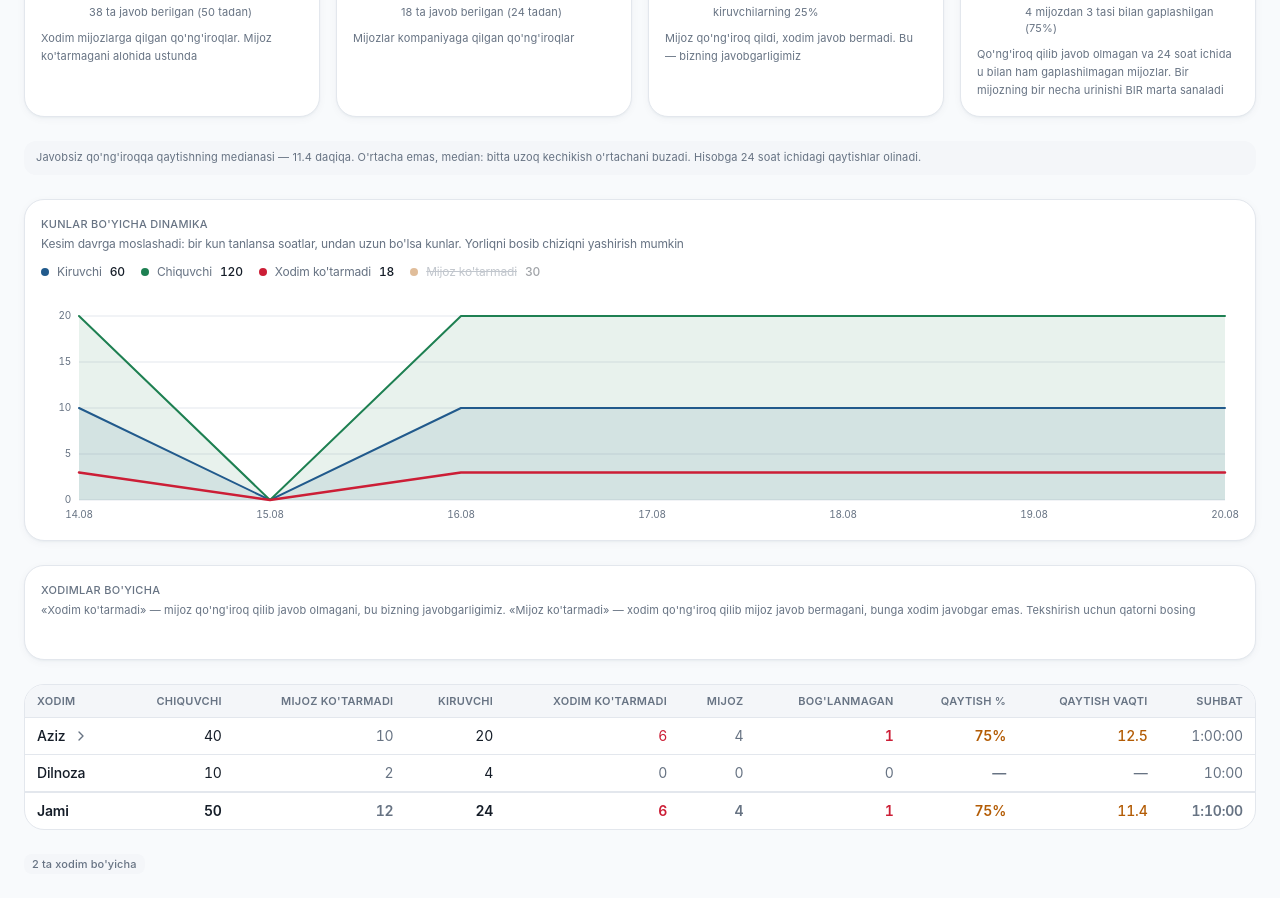
the table › explains a column when its header is pressed
(page scrolled)
Expected: the table is shown, [25,685,1255,829]
Expected: the text "«Xodim ko'tarmadi» — mijoz qo'ng'iroq qilib javob olmagani, bu bizning javobgarligimiz. «Mijoz ko'tarmadi» — xodim qo'ng" is shown, [41,602,1196,616]
Click the button "Mijoz": (725, 701) [707,693,743,709]
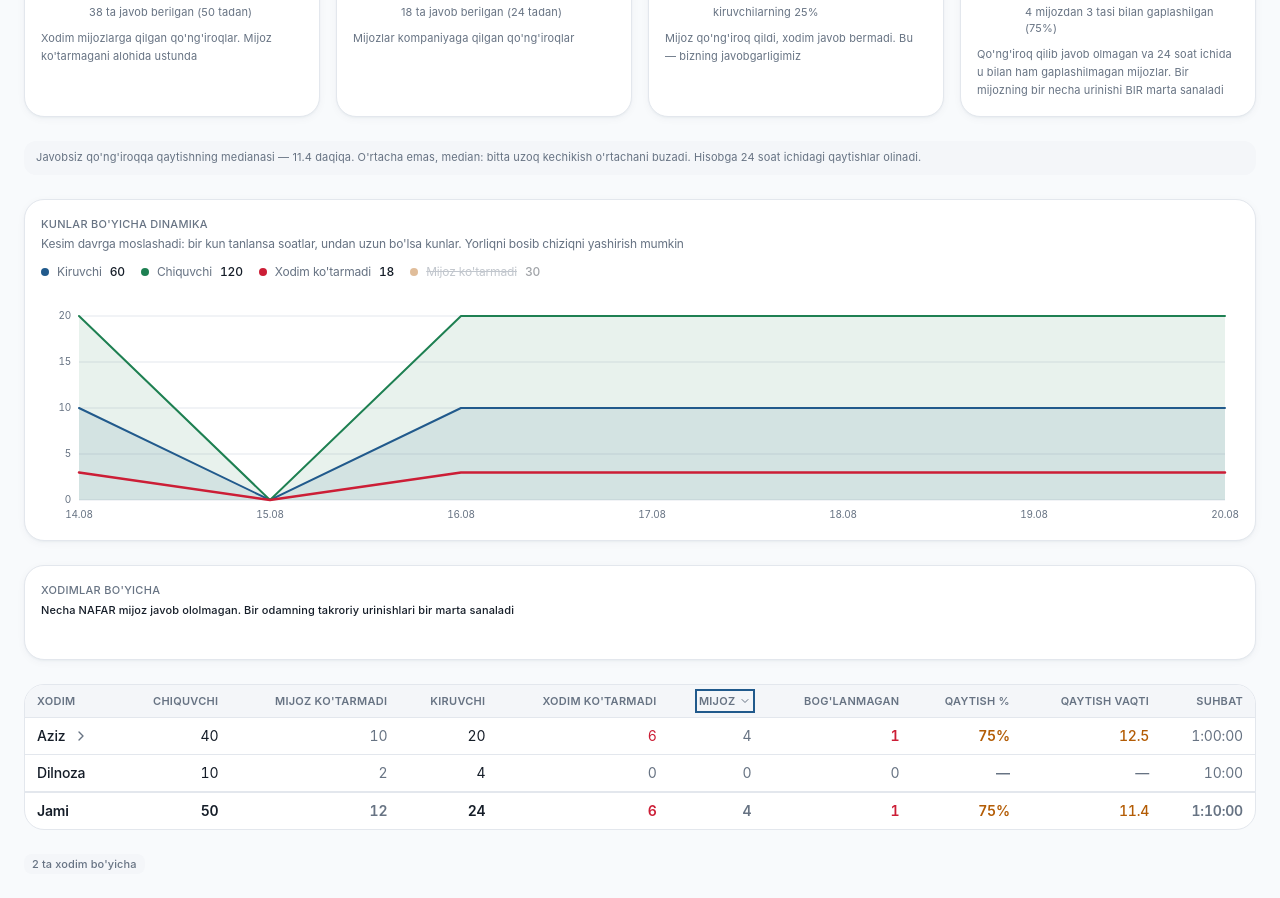
Now the text "Necha NAFAR mijoz javob ololmagan. Bir odamning takroriy urinishlari bir marta sanaladi" is shown, box [41,602,514,616]
